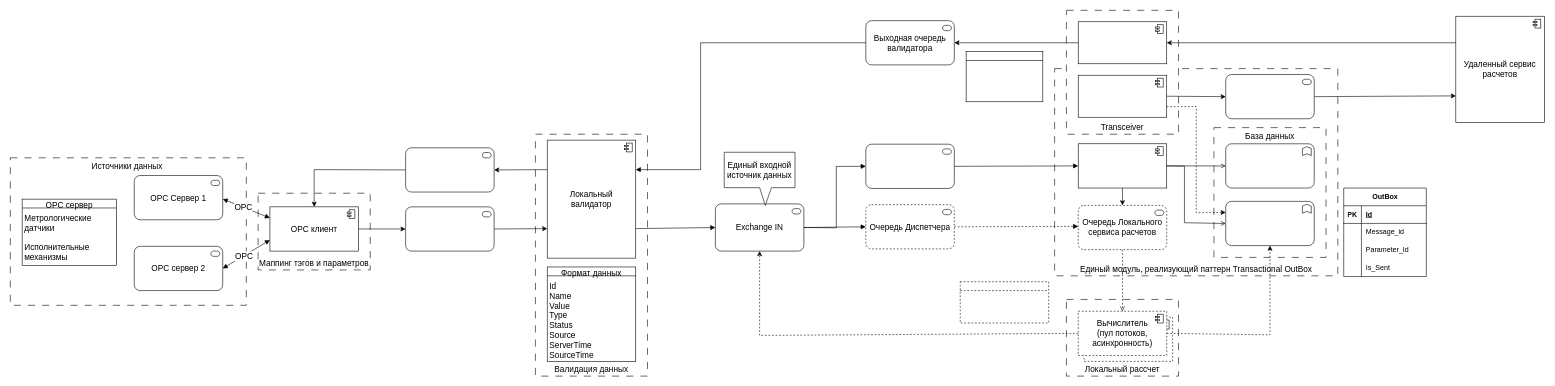
Some shapes in this 1555 by 386 pixel diagram are drawn without their labels. The centre of each missing label's shape, as x and y in pixels:
"Collector" belongs at pixel 1122 165.
"Message Relay" belongs at pixel 1122 96.
"PostgreSQL" belongs at pixel 1269 223.
"Receiver" belongs at pixel 1122 42.
"Redis" belongs at pixel 1269 165.
"Входная очередь валидатора" belongs at pixel 449 228.
"Входная очередь ОРС Cient" belongs at pixel 449 169.
"Очередь Коллектора" belongs at pixel 909 166.
"Очередь Удаленного сервиса расчетов" belongs at pixel 1269 96.
"Перенаправить в OPC client" belongs at pixel 1004 76.
"Результат вычисления" belongs at pixel 1004 302.
